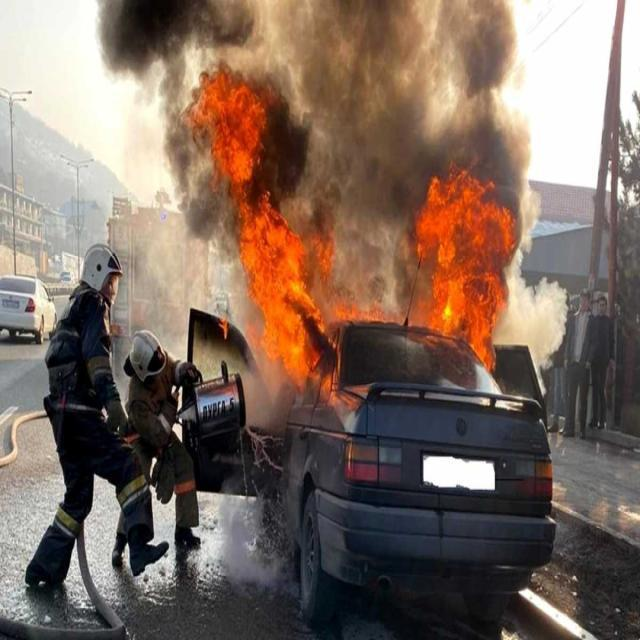Fire: (195, 62, 336, 378), (411, 173, 514, 370), (332, 297, 388, 322)
Smoke: (94, 0, 555, 367)
